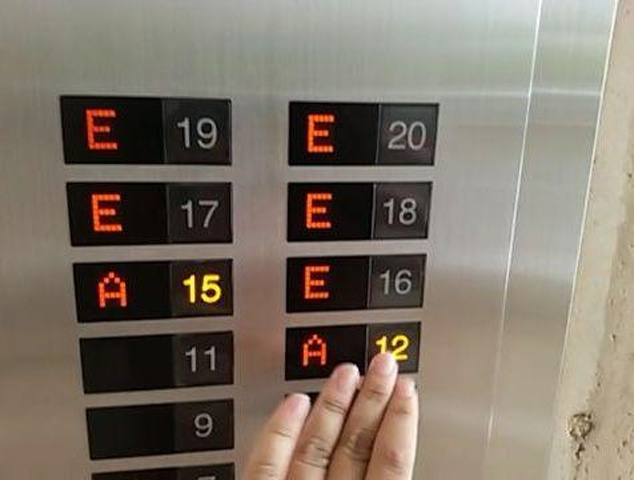11: (169, 329, 237, 391)
12: (362, 318, 423, 376)
15: (166, 256, 236, 321)
16: (363, 251, 429, 312)
17: (162, 179, 237, 246)
18: (370, 177, 435, 243)
19: (158, 92, 235, 169)
20: (372, 98, 441, 170)
9: (172, 396, 237, 455)
A: (71, 258, 172, 325), (281, 321, 371, 384)
E: (58, 91, 169, 168), (63, 178, 172, 249), (285, 98, 382, 169), (284, 180, 377, 244), (282, 253, 373, 314)
